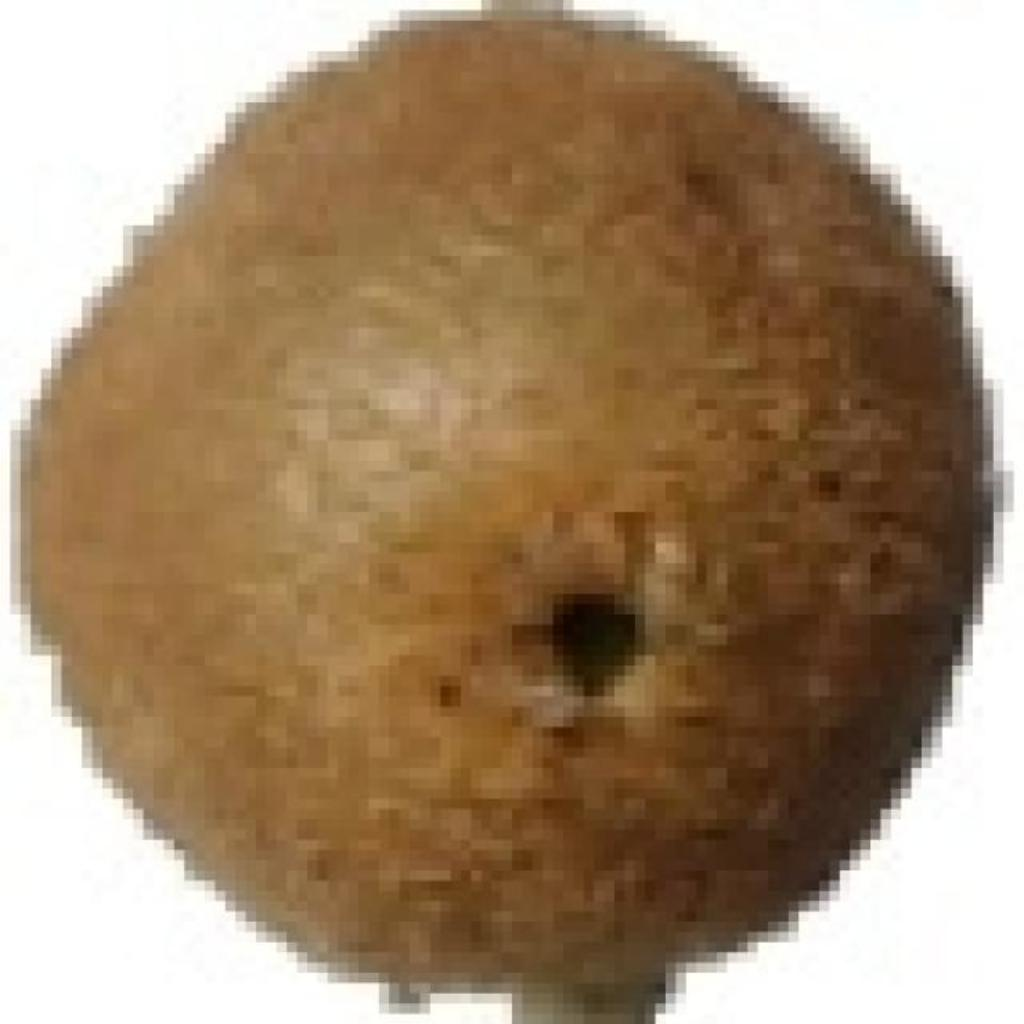kiwi: (27, 30, 990, 1015)
